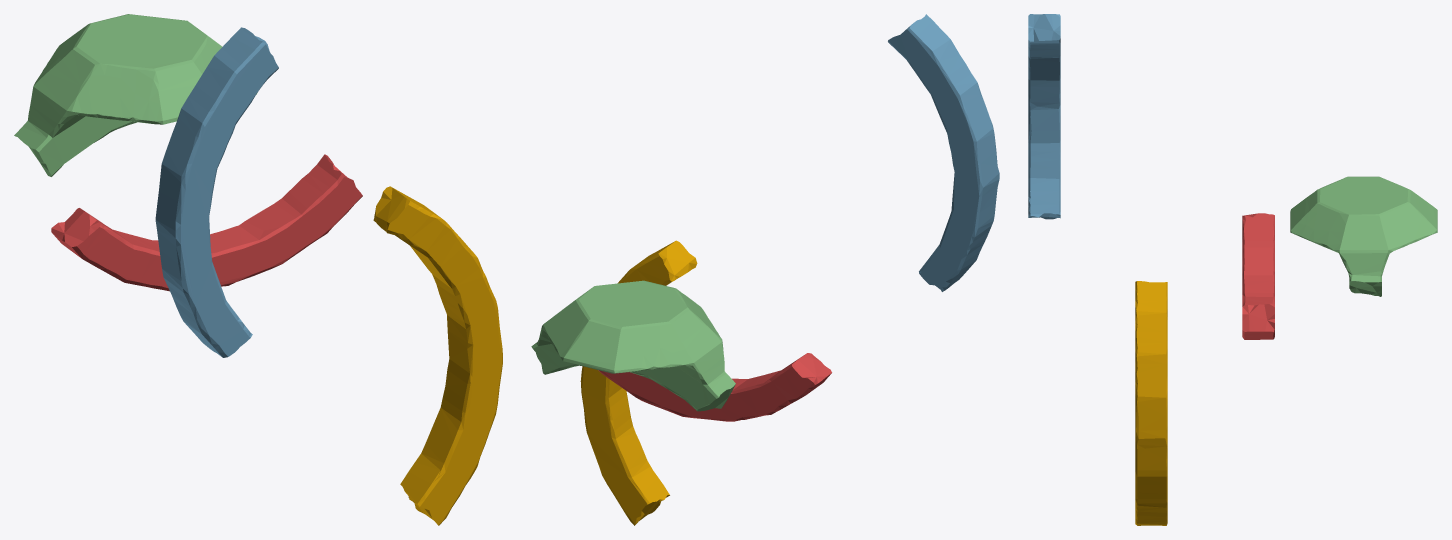
File: mode_3_4pcs_transformed.glb
3 renders of one model, left to right at view 1: azimuth 30°, elevation 25°; view 2: azimuth 150°, elevation 25°; view 3: azimuth 270°, elevation 25°, orthographic. The views are drawn at different scales.
Visible parts, largest first — view 1: piece_3.obj, piece_0.obj, piece_2.obj, piece_1.obj; view 2: piece_3.obj, piece_2.obj, piece_0.obj, piece_1.obj; view 3: piece_3.obj, piece_0.obj, piece_2.obj, piece_1.obj.
Boxes of the visible parts, x1=… form: piece_3.obj: x1=14, y1=14, x2=257, y2=176; piece_0.obj: x1=373, y1=186, x2=502, y2=525; piece_2.obj: x1=155, y1=27, x2=278, y2=357; piece_1.obj: x1=51, y1=154, x2=362, y2=291; piece_3.obj: x1=531, y1=280, x2=735, y2=411; piece_2.obj: x1=888, y1=14, x2=999, y2=291; piece_0.obj: x1=580, y1=240, x2=697, y2=525; piece_1.obj: x1=598, y1=353, x2=831, y2=421; piece_3.obj: x1=1290, y1=176, x2=1437, y2=296; piece_0.obj: x1=1135, y1=281, x2=1167, y2=525; piece_2.obj: x1=1028, y1=14, x2=1060, y2=219; piece_1.obj: x1=1242, y1=213, x2=1274, y2=339.
Size of the model in its own units: 0.925 by 1.31 by 1.15.
